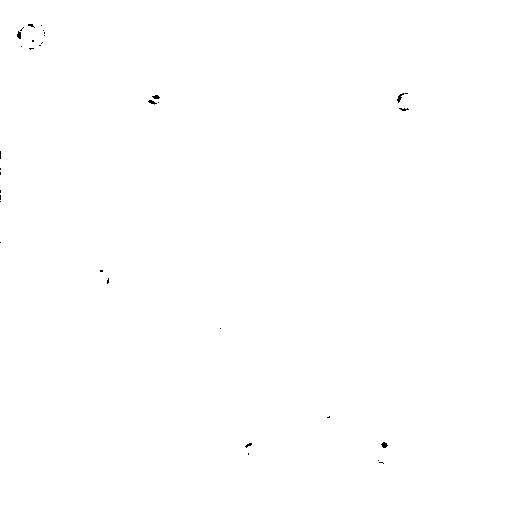micro-algae: (1, 153, 38, 193), (373, 433, 401, 464), (17, 21, 45, 49), (89, 263, 116, 292), (395, 88, 419, 112), (242, 443, 261, 460)
